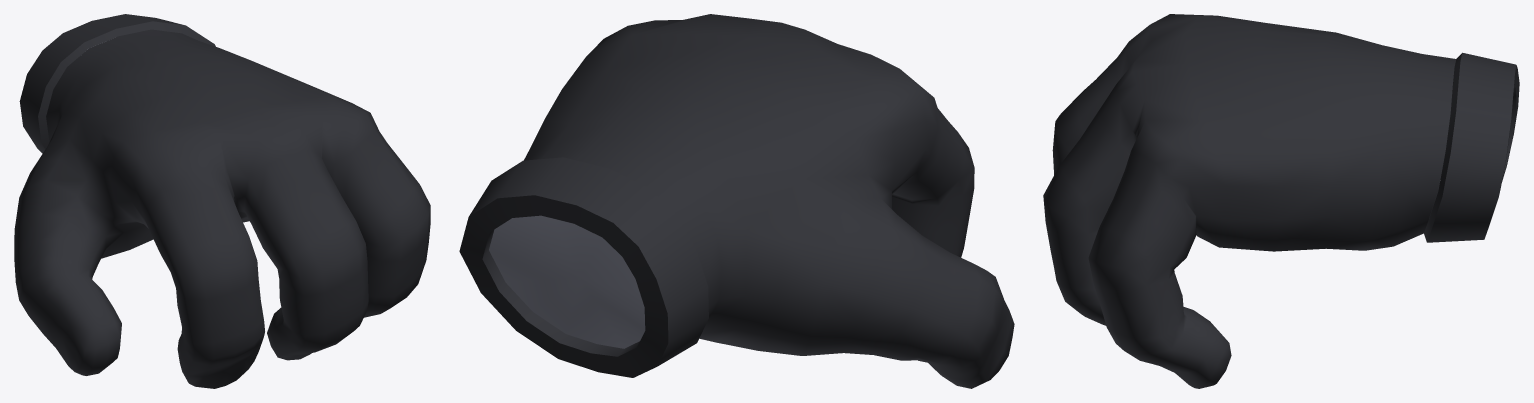
The model's file is hand_basic_grabbing_left.fbx.
3 renders of one model, left to right at view 1: azimuth 30°, elevation 25°; view 2: azimuth 150°, elevation 25°; view 3: azimuth 270°, elevation 25°, orthographic. The views are drawn at different scales.
Visible parts, largest first — view 1: gripping_hand; view 2: gripping_hand; view 3: gripping_hand.
Part boxes in pixels (<box>): gripping_hand: <box>14,14,430,388</box>; gripping_hand: <box>459,14,1014,388</box>; gripping_hand: <box>1043,14,1519,388</box>.
Bounding box in the file's own units: 9.21 × 6.04 × 9.5.
